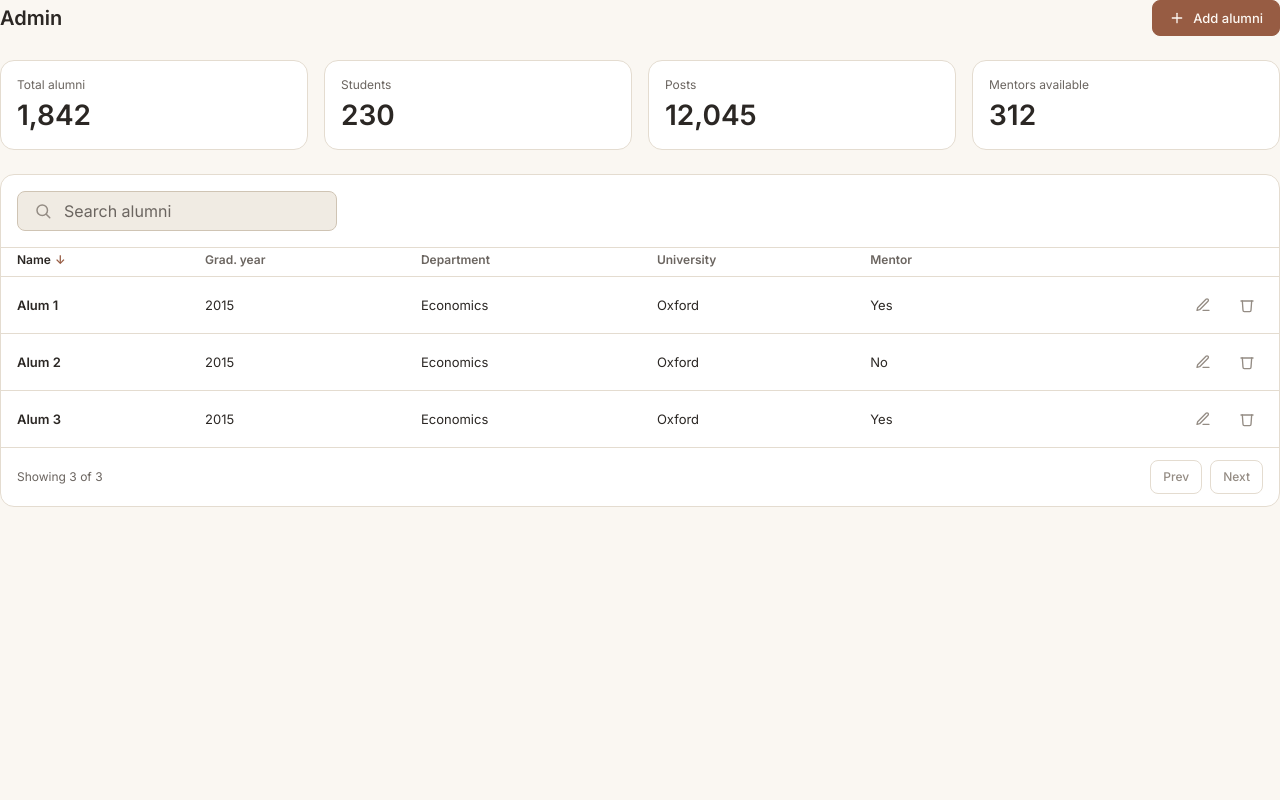
Test: DeleteAlumniDialog › asks with the S6 text, naming the brand, with focus on Cancel
This screenshot has width=1280, height=800.
Expected: the column heading "Alum 1" is shown, [1, 276, 189, 334]
What coordinates should you click on to do the following:
click the button named "Delete Alum 2"
I would click on:
 (1247, 362)
Its box is [1231, 346, 1263, 378].
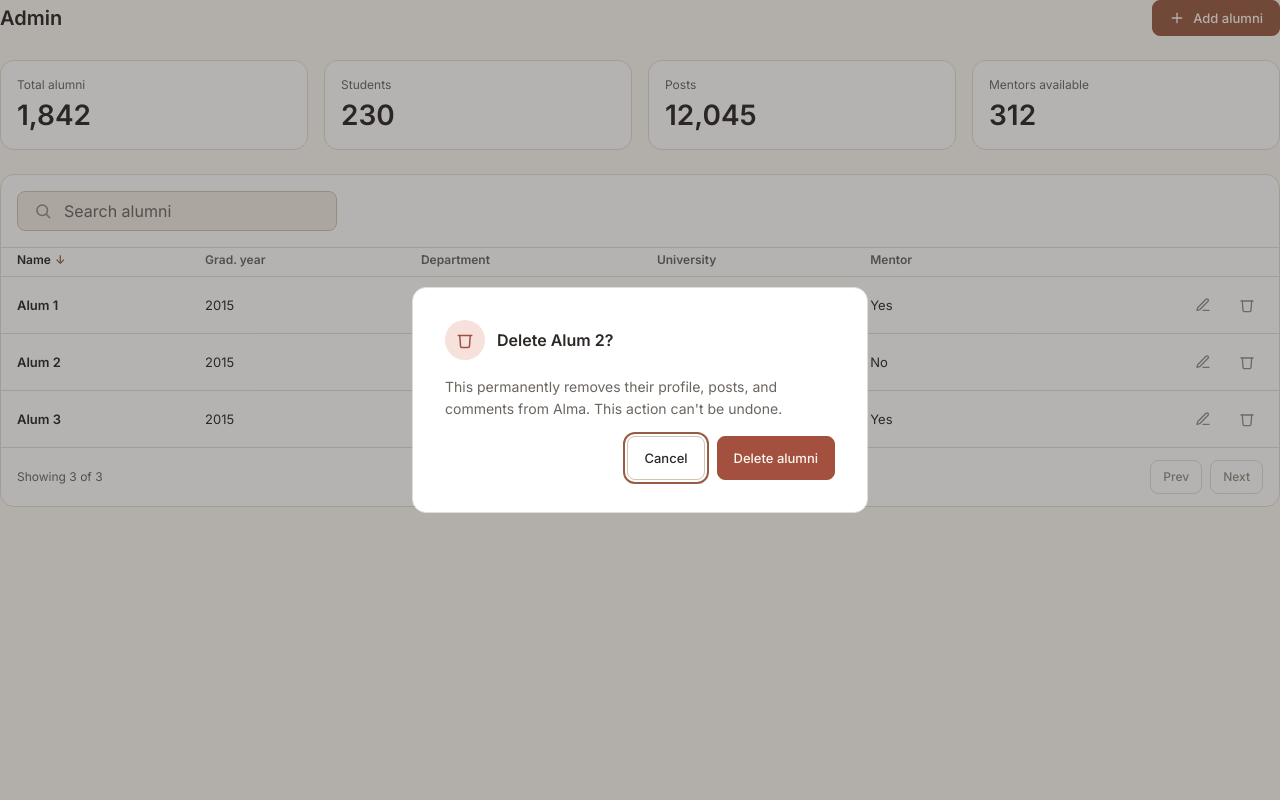
Now the heading "Delete Alum 2?" is shown, box [497, 328, 613, 352]
Now the button "Delete alumni" is enabled, box [716, 436, 835, 480]
